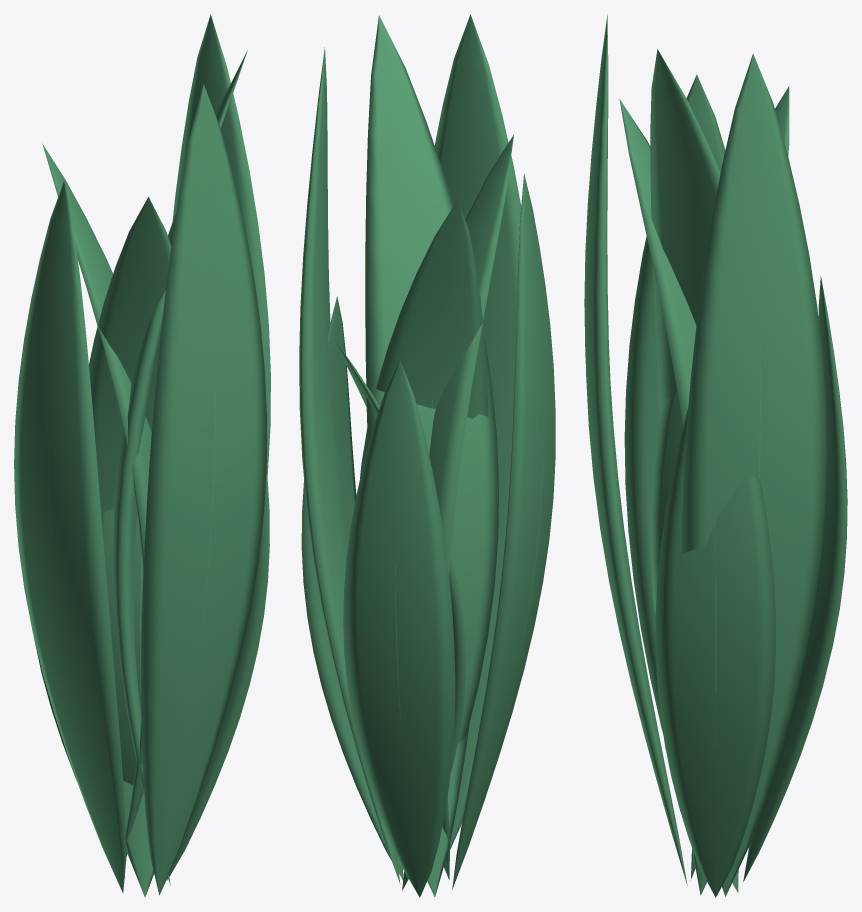
Rendered from AmazonSword.fbx.
The picture shows the model from 3 angles, left to right: view 1: azimuth 30°, elevation 25°; view 2: azimuth 150°, elevation 25°; view 3: azimuth 270°, elevation 25°; orthographic projection. The views are drawn at different scales.
Parts seen in each view (by area): view 1: AmazonSword | leaves, AmazonSword | veins; view 2: AmazonSword | leaves; view 3: AmazonSword | leaves, AmazonSword | veins.
Boxes of the visible parts, box(x1,y1,x2,y2) form: AmazonSword | leaves: box(14, 14, 270, 897); AmazonSword | veins: box(48, 351, 215, 708); AmazonSword | leaves: box(299, 14, 555, 897); AmazonSword | leaves: box(584, 14, 847, 897); AmazonSword | veins: box(585, 280, 760, 746).
Bounding box in the file's own units: 33.54 × 120 × 32.67.
